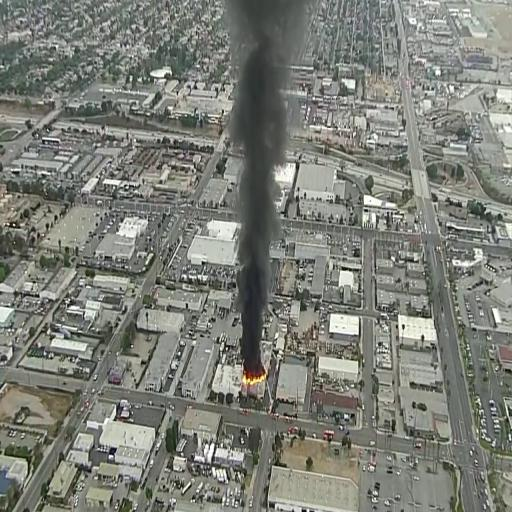smoke: (244, 63, 270, 370)
